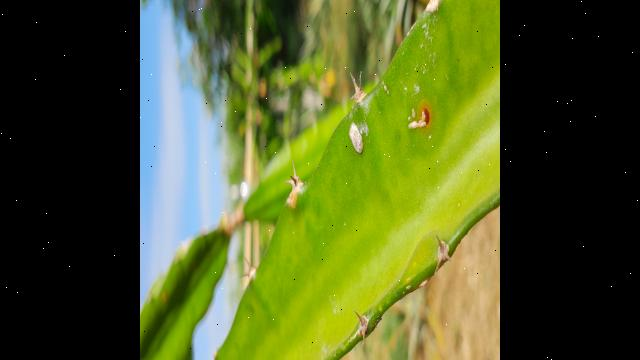stemcanker: (405, 95, 439, 132), (346, 121, 367, 157)
